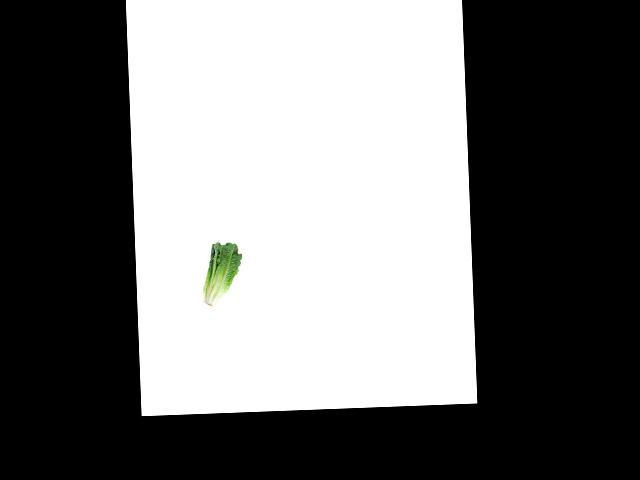lettuce: (199, 239, 242, 310)
